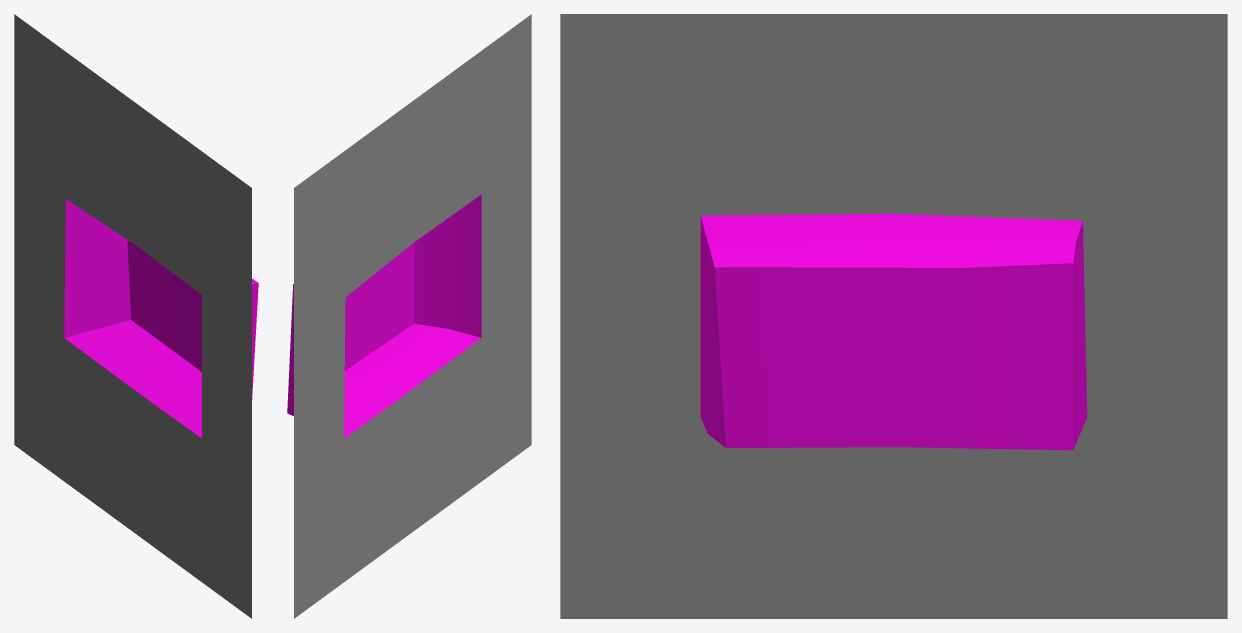
The model's file is Background_Inside.FBX.
The picture shows the model from 3 angles, left to right: view 1: azimuth 30°, elevation 25°; view 2: azimuth 150°, elevation 25°; view 3: azimuth 270°, elevation 25°; orthographic projection. The views are drawn at different scales.
Visible parts, largest first — view 1: Background_Inside; view 2: Background_Inside; view 3: Background_Inside.
Boxes of the visible parts, box(x1,y1,x2,y2) form: Background_Inside: box(14, 14, 258, 618); Background_Inside: box(287, 14, 531, 618); Background_Inside: box(560, 14, 1227, 618).
Size of the model in its own units: 75 by 500 by 500.
